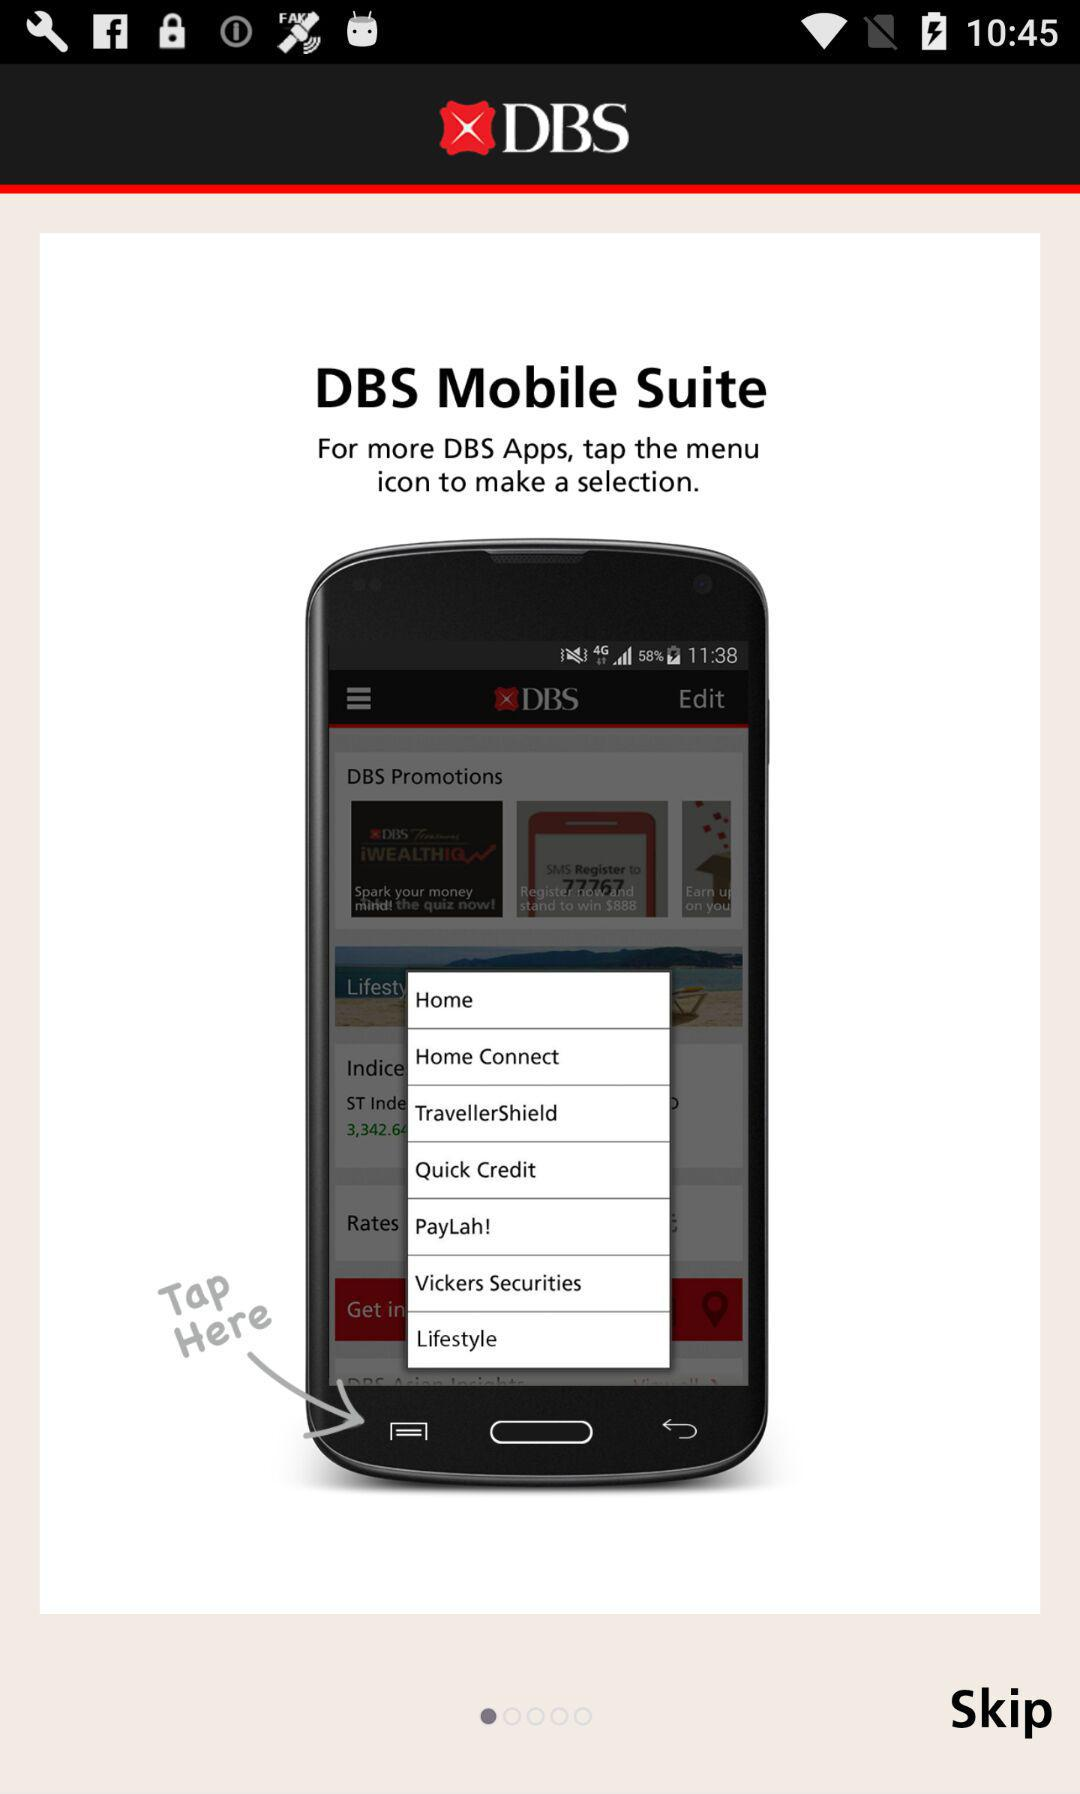Image: (158, 537, 770, 1494), (439, 101, 497, 156)
PageIndicator: (479, 1706, 596, 1727)
Text: (318, 436, 760, 495), (316, 363, 767, 411), (503, 103, 630, 155), (949, 1685, 1054, 1741)
UpperTaskBar: (1, 1, 1080, 64)
